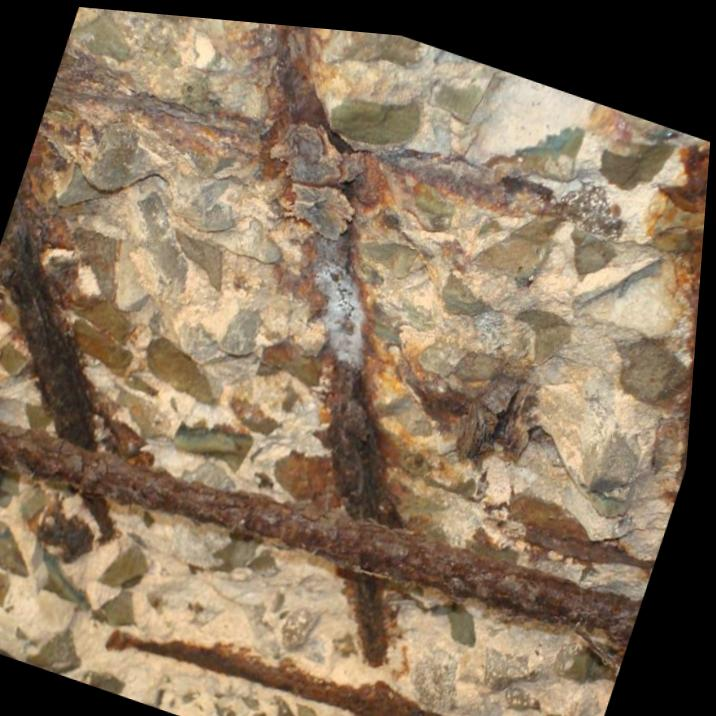damage: (0, 5, 711, 716)
